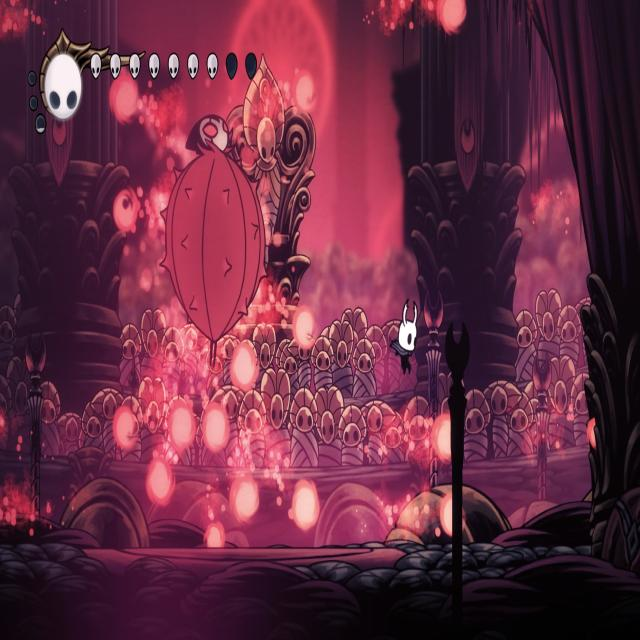Player: (389, 298, 420, 378)
Pufferfish: (156, 108, 270, 390)
Tiny Fireballs: (109, 75, 139, 125), (292, 479, 320, 529), (148, 457, 176, 507), (231, 344, 258, 394), (169, 405, 196, 454), (232, 476, 260, 522), (202, 405, 228, 454), (113, 188, 140, 233), (112, 407, 137, 452), (441, 491, 465, 535), (438, 0, 468, 34), (292, 309, 315, 353), (294, 73, 317, 116), (434, 414, 455, 461), (205, 522, 225, 548)
